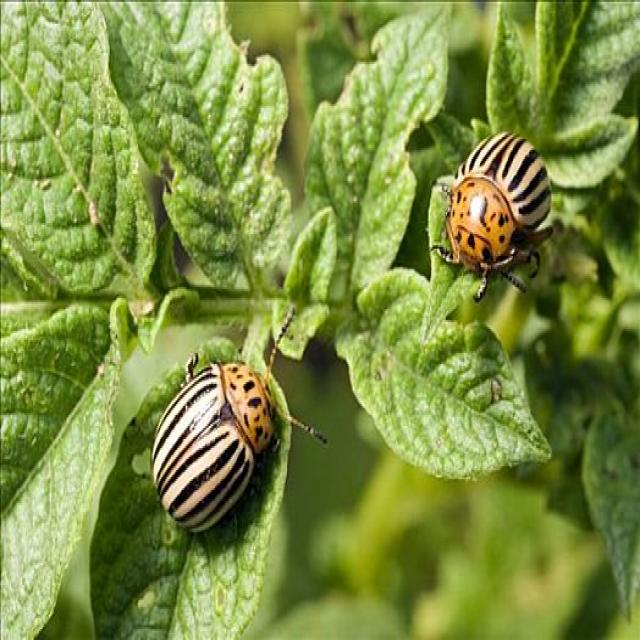ShuCaiHuaBanChong-Grown-: (124, 362, 290, 537), (436, 119, 564, 283)
